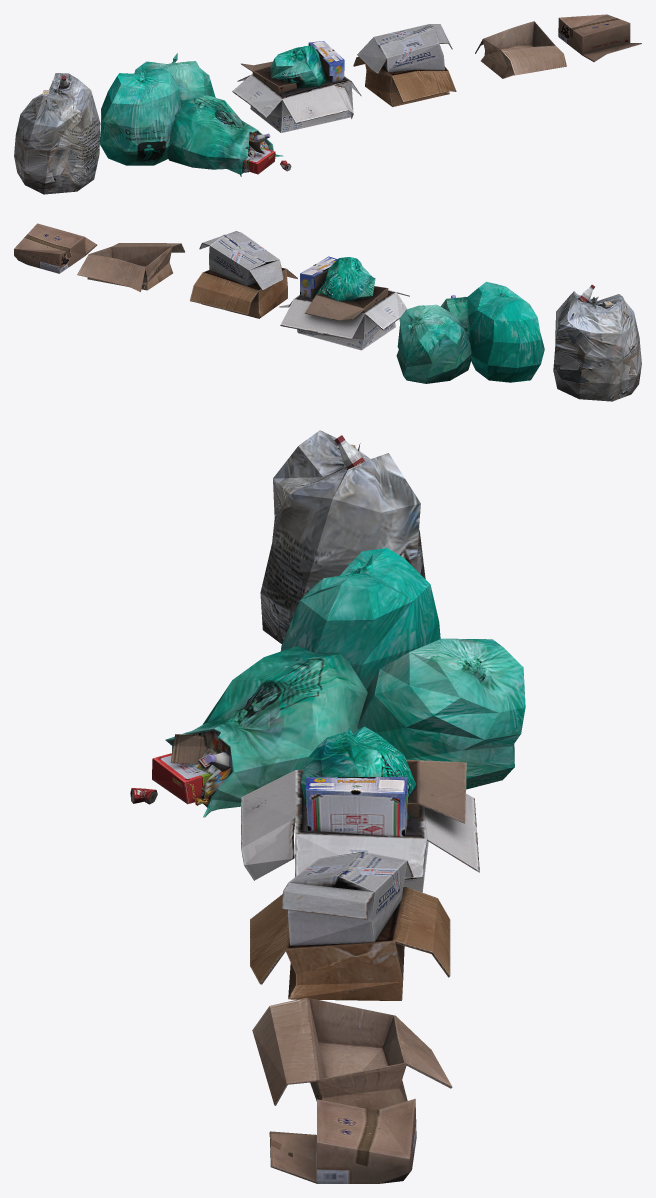
Rendered from rubbish.obj.
3 renders of one model, top to bottom at view 1: azimuth 30°, elevation 25°; view 2: azimuth 150°, elevation 25°; view 3: azimuth 270°, elevation 25°, orthographic. The views are drawn at different scales.
Parts seen in each view (by area): view 1: rubbish_02, rubbish_01, rubbish_03, rubbish_04, rubbish_05, rubbish_06; view 2: rubbish_02, rubbish_01, rubbish_03, rubbish_04, rubbish_05, rubbish_06; view 3: rubbish_02, rubbish_03, rubbish_04, rubbish_01, rubbish_05, rubbish_06.
Part boxes in pixels (left/top/right/bottom): rubbish_02: left=100, top=53, right=291, bottom=176; rubbish_01: left=14, top=73, right=100, bottom=194; rubbish_03: left=232, top=41, right=361, bottom=132; rubbish_04: left=353, top=24, right=456, bottom=106; rubbish_05: left=475, top=21, right=566, bottom=78; rubbish_06: left=558, top=14, right=641, bottom=61; rubbish_02: left=396, top=281, right=544, bottom=383; rubbish_01: left=553, top=284, right=641, bottom=401; rubbish_03: left=279, top=256, right=409, bottom=350; rubbish_04: left=190, top=231, right=297, bottom=318; rubbish_05: left=77, top=243, right=184, bottom=291; rubbish_06: left=14, top=223, right=97, bottom=273; rubbish_02: left=130, top=548, right=525, bottom=817; rubbish_03: left=241, top=726, right=479, bottom=892; rubbish_04: left=250, top=852, right=450, bottom=1000; rubbish_01: left=260, top=430, right=425, bottom=643; rubbish_05: left=252, top=997, right=452, bottom=1110; rubbish_06: left=269, top=1098, right=416, bottom=1183.
Bounding box in the file's own units: 163 × 26.47 × 46.36.
